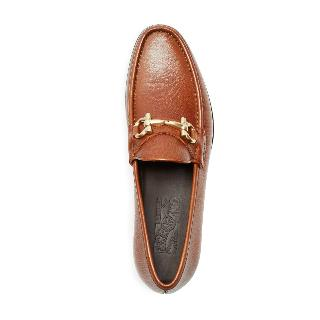loafers: (120, 25, 212, 297)
